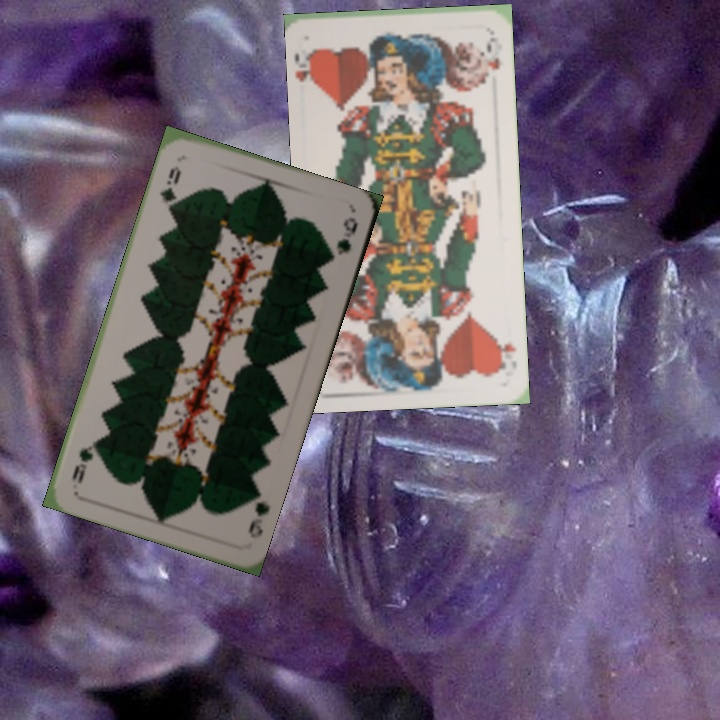G9: (244, 486, 273, 541), (155, 162, 184, 215)
HO: (292, 45, 321, 90), (491, 333, 519, 376)
